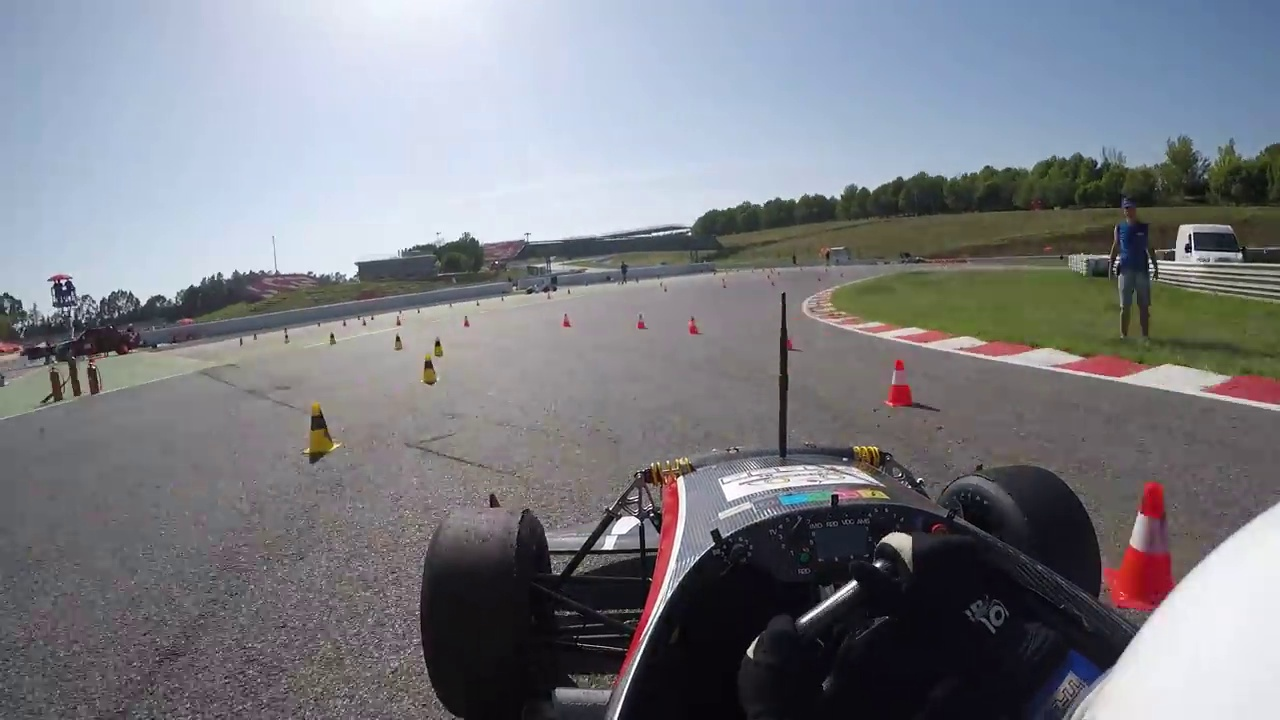Cone: (1106, 482, 1191, 609), (886, 356, 918, 408), (307, 403, 334, 454)
